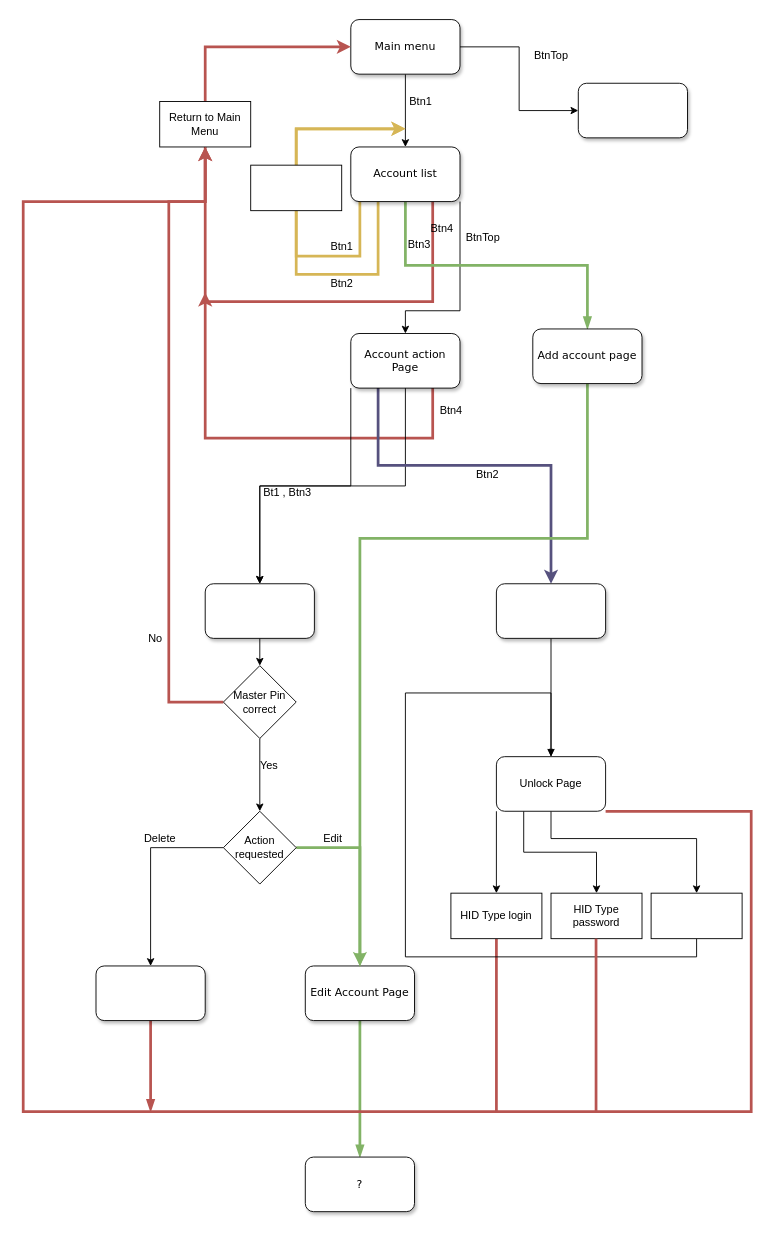
Image size: 775x1234. Some labels were removed from this diagram. The shapes that lost their labels are listed below. From the top down, each one's centre as x and y in pixels, then its label:
pixel 633 111: Sleep
pixel 296 187: Cycle through list
pixel 260 612: Pin authorisation page
pixel 551 612: Pin decryption
pixel 696 915: Cycle through keyboard layouts
pixel 151 994: Deleted account info
